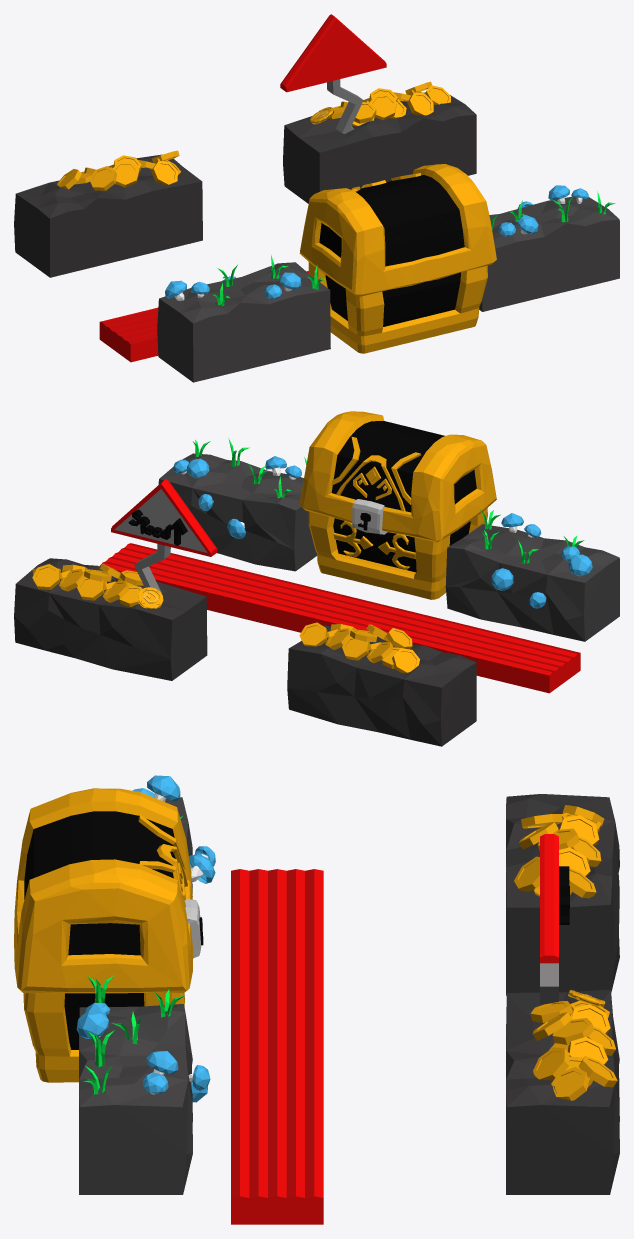
File: Forest_TreasureBox_Easy 1.fbx
The picture shows the model from 3 angles, top to bottom: view 1: azimuth 30°, elevation 25°; view 2: azimuth 150°, elevation 25°; view 3: azimuth 270°, elevation 25°; orthographic projection. The views are drawn at different scales.
Parts seen in each view (by area): view 1: Cylinder, TreasureBox_Wall, TreasureBox, TreasureBox_Fragments_cell.005, Limit_Line, TreasureBox_Fragments_cell, TreasureBox_Fragments.001_cell.011, TreasureBox_Fragments.001_cell.012, TreasureBox_Fragments.001_cell.016, TreasureBox_Fragments_cell.007, TreasureBox_Fragments_cell.011, TreasureBox_Fragments.001_cell.018 (+1 smaller); view 2: Cylinder, TreasureBox_Wall, TreasureBox, Limit_Line, TreasureBox_Fragments_cell.009, TreasureBox_Fragments_cell.017, TreasureBox_Fragments_cell.010, TreasureBox_Fragments_cell, TreasureBox_Fragments_cell.013, TreasureBox_Fragments_cell.002, TreasureBox_Fragments.001_cell.017, TreasureBox_Fragments.001_cell.014 (+3 smaller); view 3: Cylinder, Limit_Line, TreasureBox, TreasureBox_Wall, TreasureBox_Fragments_cell.004, TreasureBox_Fragments_cell, TreasureBox_Fragments_cell.012, TreasureBox_Fragments_cell.010, TreasureBox_Fragments_cell.009, TreasureBox_Fragments_cell.005, TreasureBox_Fragments.001_cell.010, TreasureBox_Fragments_cell.013.
Boxes of the visible parts, x1,y1,x2,y2 form: Cylinder: (14,14,476,277); TreasureBox_Wall: (157,185,619,382); TreasureBox: (300,164,496,353); TreasureBox_Fragments_cell.005: (396,215,496,285); Limit_Line: (99,271,309,362); TreasureBox_Fragments_cell: (318,187,416,239); TreasureBox_Fragments.001_cell.011: (432,265,487,304); TreasureBox_Fragments.001_cell.012: (386,292,478,331); TreasureBox_Fragments.001_cell.016: (372,331,453,348); TreasureBox_Fragments_cell.007: (414,180,485,221); TreasureBox_Fragments_cell.011: (305,201,334,265); TreasureBox_Fragments.001_cell.018: (330,304,361,352); Cylinder: (14,479,476,746); TreasureBox_Wall: (158,438,619,641); TreasureBox: (299,411,496,599); Limit_Line: (99,543,580,693); TreasureBox_Fragments_cell.009: (354,435,410,490); TreasureBox_Fragments_cell.017: (419,467,449,540); TreasureBox_Fragments_cell.010: (330,421,405,471); TreasureBox_Fragments_cell: (405,429,480,468); TreasureBox_Fragments_cell.013: (389,471,419,537); TreasureBox_Fragments_cell.002: (311,484,388,530); TreasureBox_Fragments.001_cell.017: (329,528,371,571); TreasureBox_Fragments.001_cell.014: (405,535,450,578); Cylinder: (506,794,619,1194); Limit_Line: (231,869,323,1224); TreasureBox: (14,788,202,1082); TreasureBox_Wall: (76,775,215,1194); TreasureBox_Fragments_cell.004: (36,858,124,991); TreasureBox_Fragments_cell: (28,788,167,858); TreasureBox_Fragments_cell.012: (104,871,190,992); TreasureBox_Fragments_cell.010: (70,837,181,893); TreasureBox_Fragments_cell.009: (99,825,182,883); TreasureBox_Fragments_cell.005: (14,849,75,993); TreasureBox_Fragments.001_cell.010: (32,993,144,1069); TreasureBox_Fragments_cell.013: (166,817,192,899).
Bounding box in the file's own units: 5296 × 2174 × 4144.
